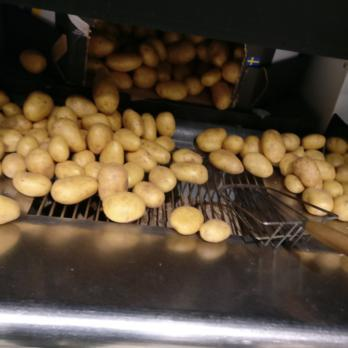Floury potato: (0, 89, 200, 236), (195, 127, 348, 214), (87, 29, 239, 104)
